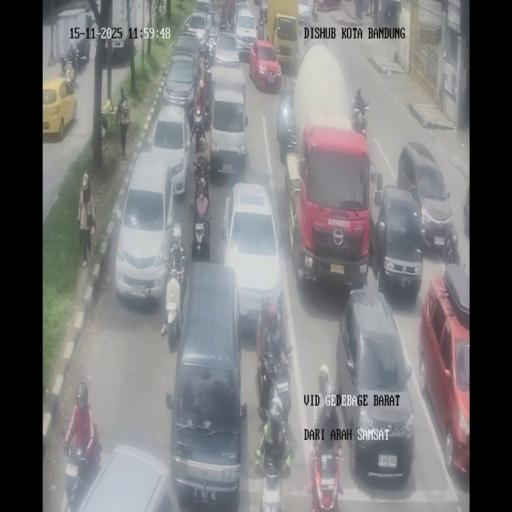3: (286, 44, 370, 295), (207, 70, 247, 180), (95, 0, 142, 62), (55, 7, 92, 70)
car: (168, 263, 246, 505), (337, 288, 414, 480), (419, 266, 469, 478), (222, 179, 282, 333), (396, 142, 457, 256), (149, 104, 190, 194), (162, 55, 199, 123), (42, 78, 78, 140), (249, 39, 281, 92), (272, 13, 300, 72), (276, 78, 296, 160), (184, 10, 210, 52), (212, 30, 240, 69), (232, 0, 250, 27)
truck: (255, 421, 293, 509), (255, 342, 292, 426), (64, 428, 100, 505), (308, 444, 342, 511), (162, 272, 184, 347), (190, 208, 210, 261), (192, 162, 210, 206), (190, 112, 206, 154), (352, 104, 368, 136), (202, 55, 213, 100), (202, 99, 212, 129), (256, 15, 264, 40), (219, 10, 227, 31), (312, 1, 318, 22), (262, 3, 268, 24)
